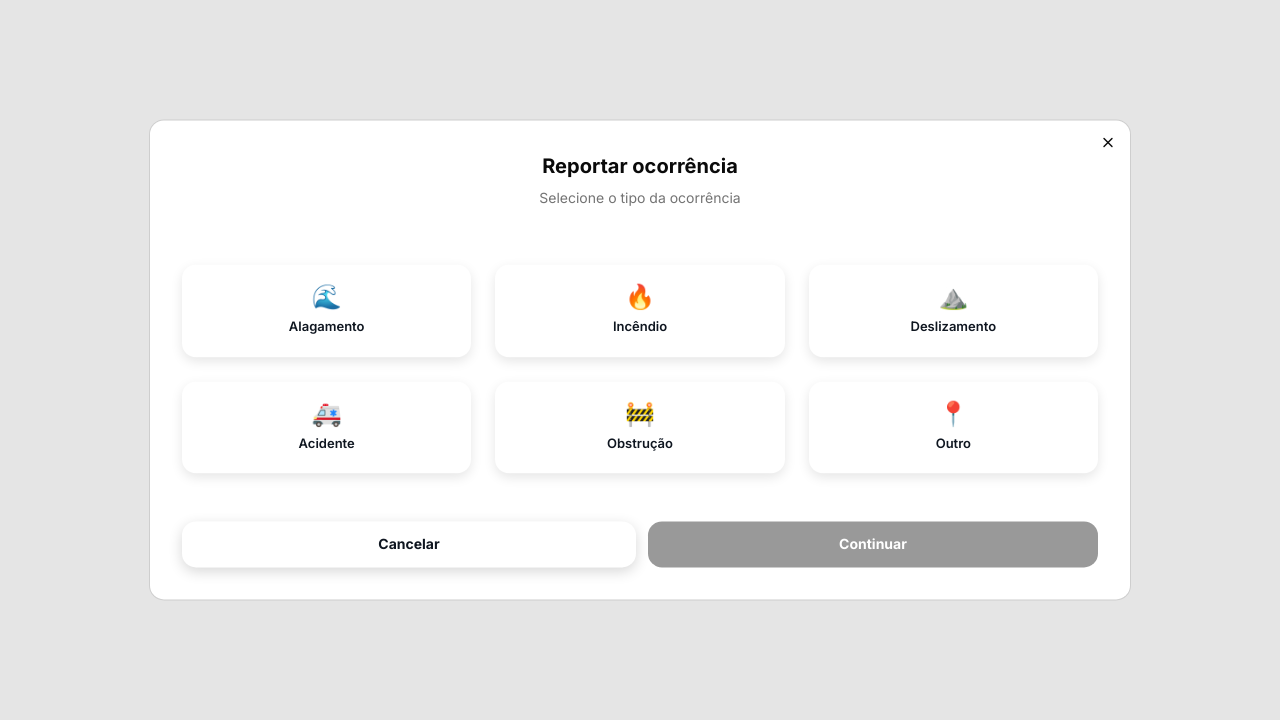
ReportModal › mantem o endereco anterior quando a edicao do local e cancelada
Click the text "Alagamento" at coordinates (327, 327), box [289,317,364,336]
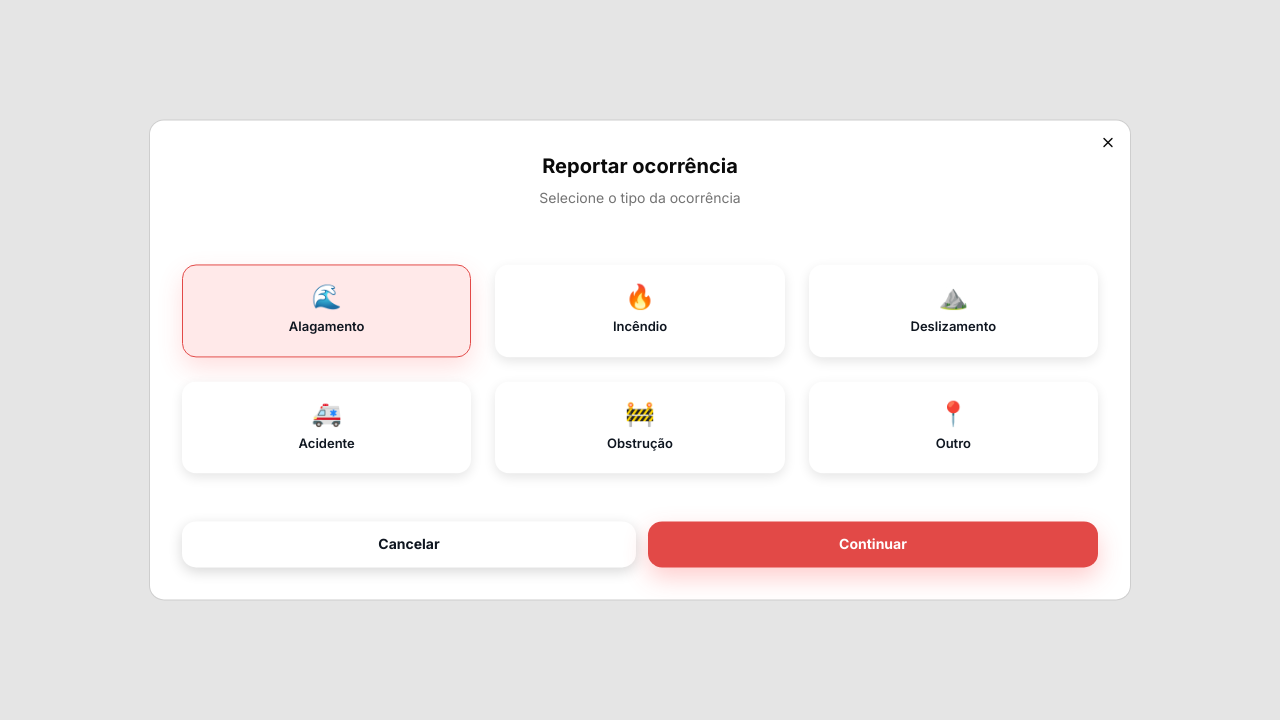
Click the button "Continuar" at coordinates (873, 545), box [648,522,1098,568]
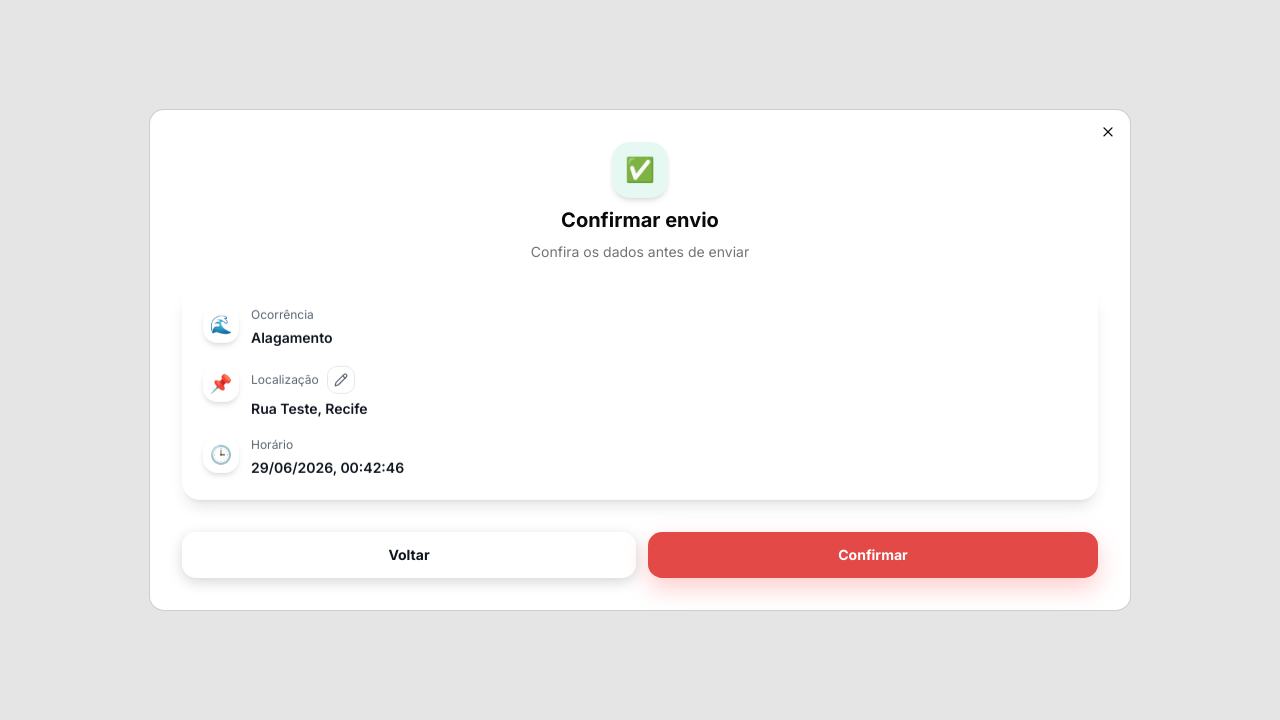
Result: the heading "Confirmar envio" is shown at [561,208,719,232]
Result: the text "Rua Teste, Recife" is shown at [251,400,368,417]
Click the button named "editar localização" at coordinates (341, 380), box [327,366,355,394]
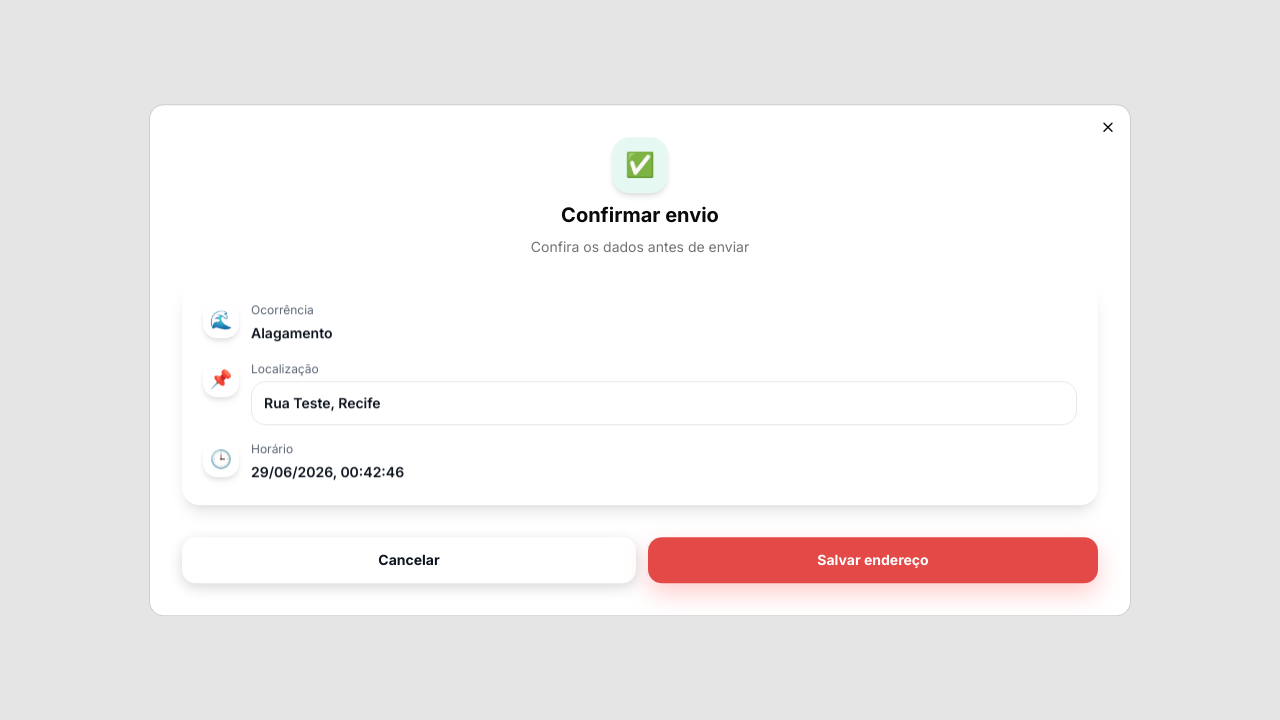
Replace the text in the search field named "novo endereço" with "Boa Viagem" at coordinates (664, 403), box [251,381,1077,425]
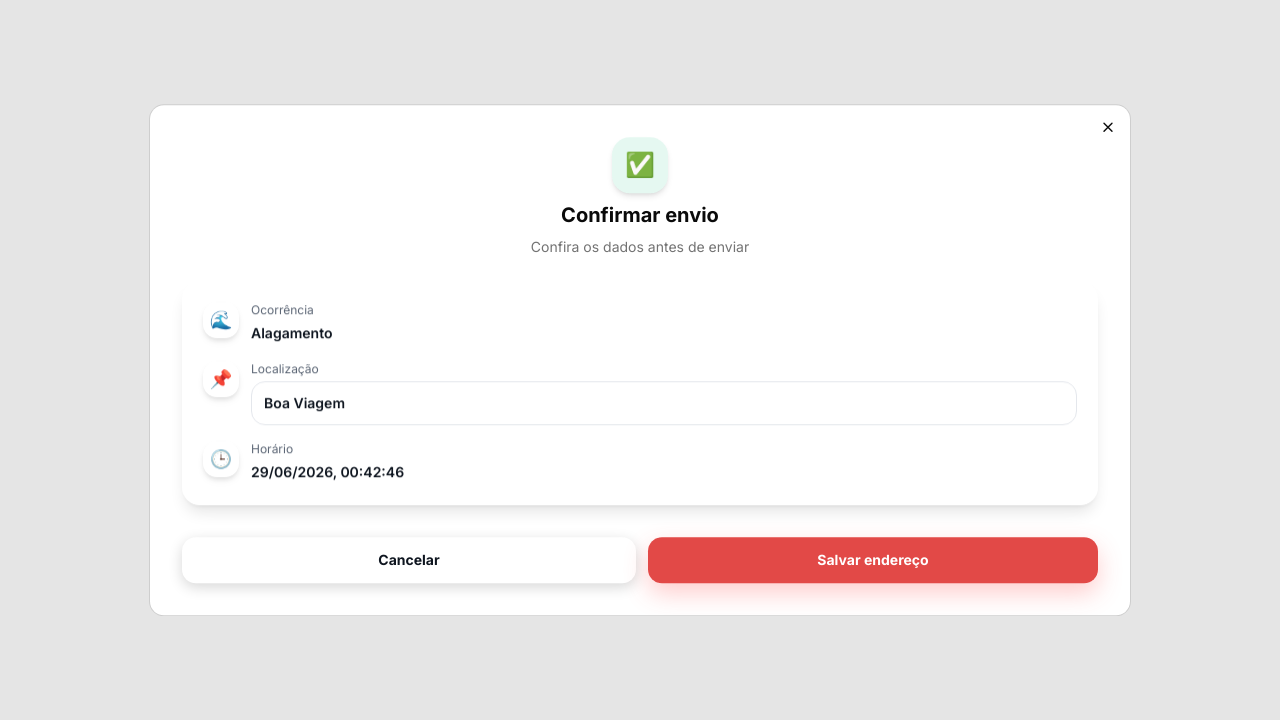
Click the button "Cancelar" at coordinates (409, 560), box [182,537,636,583]
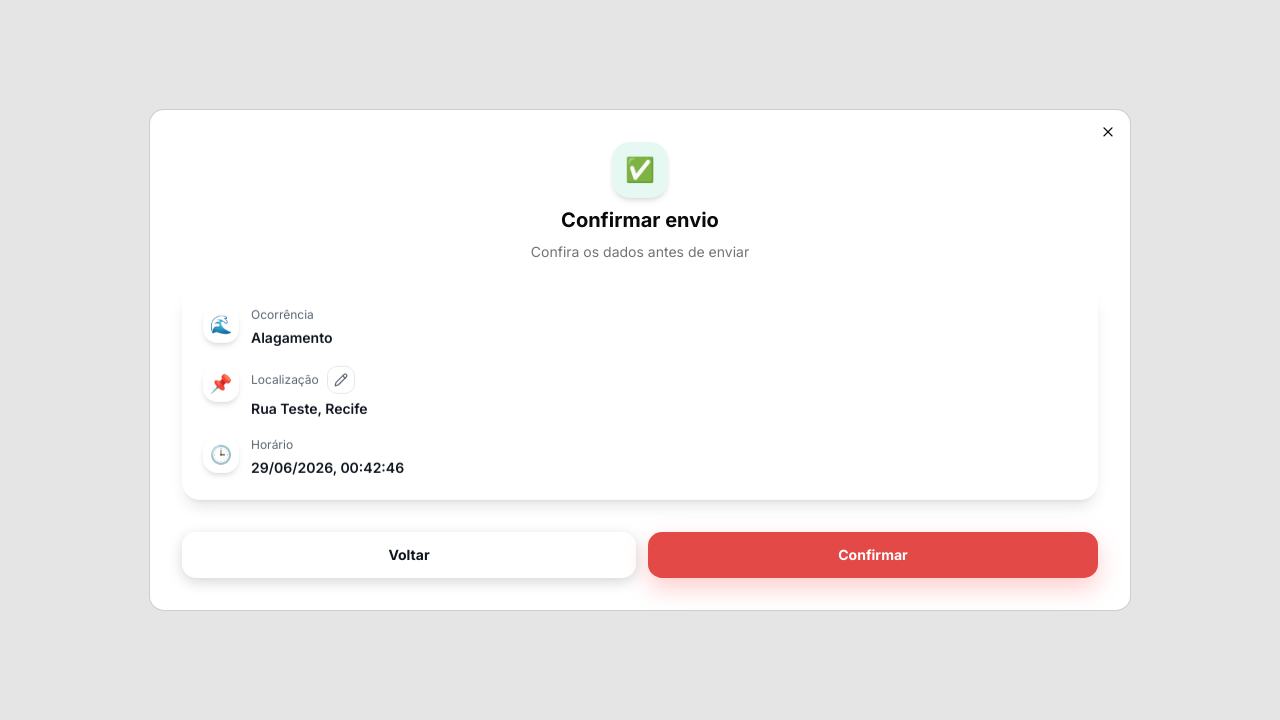
Result: the text "Rua Teste, Recife" is shown at [251,400,368,417]
Result: the button "Confirmar" is shown at [648,532,1098,578]
